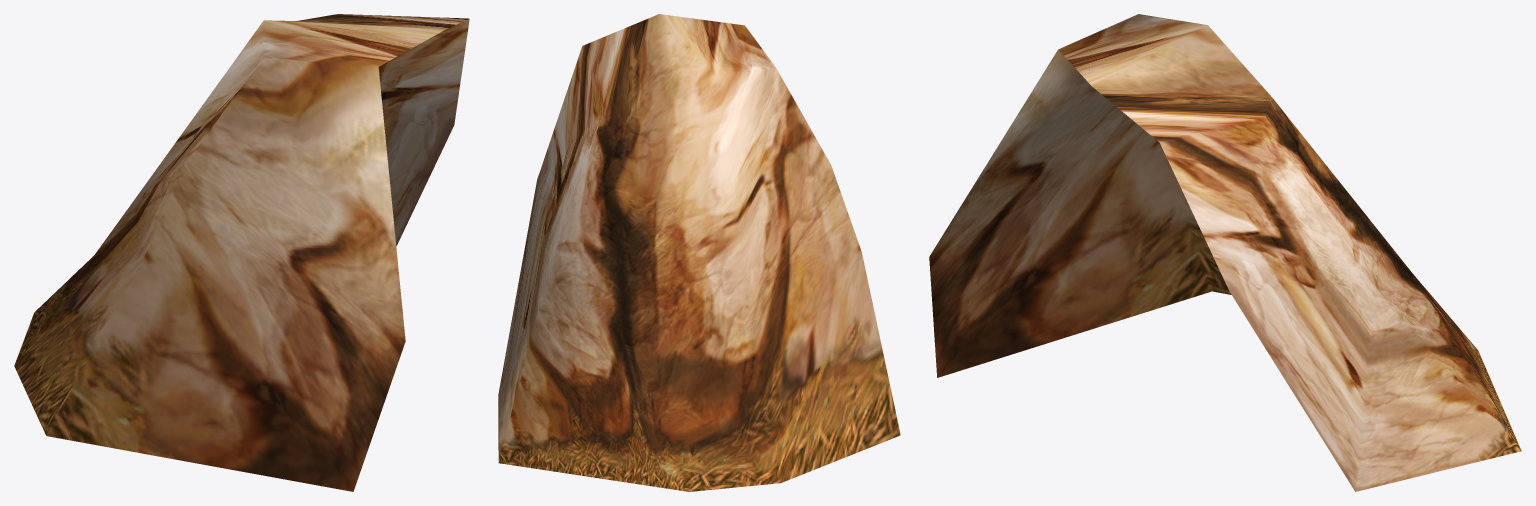
File: des_rock_02.fbx
The picture shows the model from 3 angles, left to right: view 1: azimuth 30°, elevation 25°; view 2: azimuth 150°, elevation 25°; view 3: azimuth 270°, elevation 25°; orthographic projection. The views are drawn at different scales.
Parts seen in each view (by area): view 1: des_rock_02; view 2: des_rock_02; view 3: des_rock_02.
Part boxes in pixels (<box>): des_rock_02: <box>14,14,469,491</box>; des_rock_02: <box>498,14,900,491</box>; des_rock_02: <box>929,14,1521,491</box>.
Size of the model in its own units: 917 by 783 by 1101.
